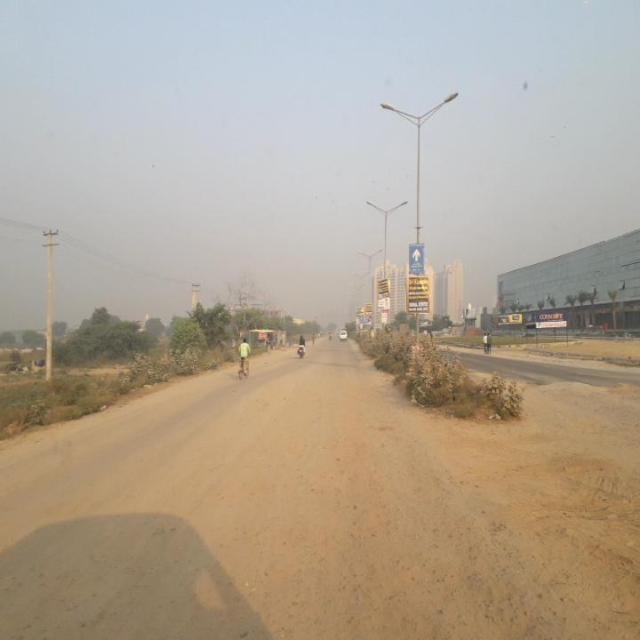Surface Erosion: (152, 360, 640, 640)
